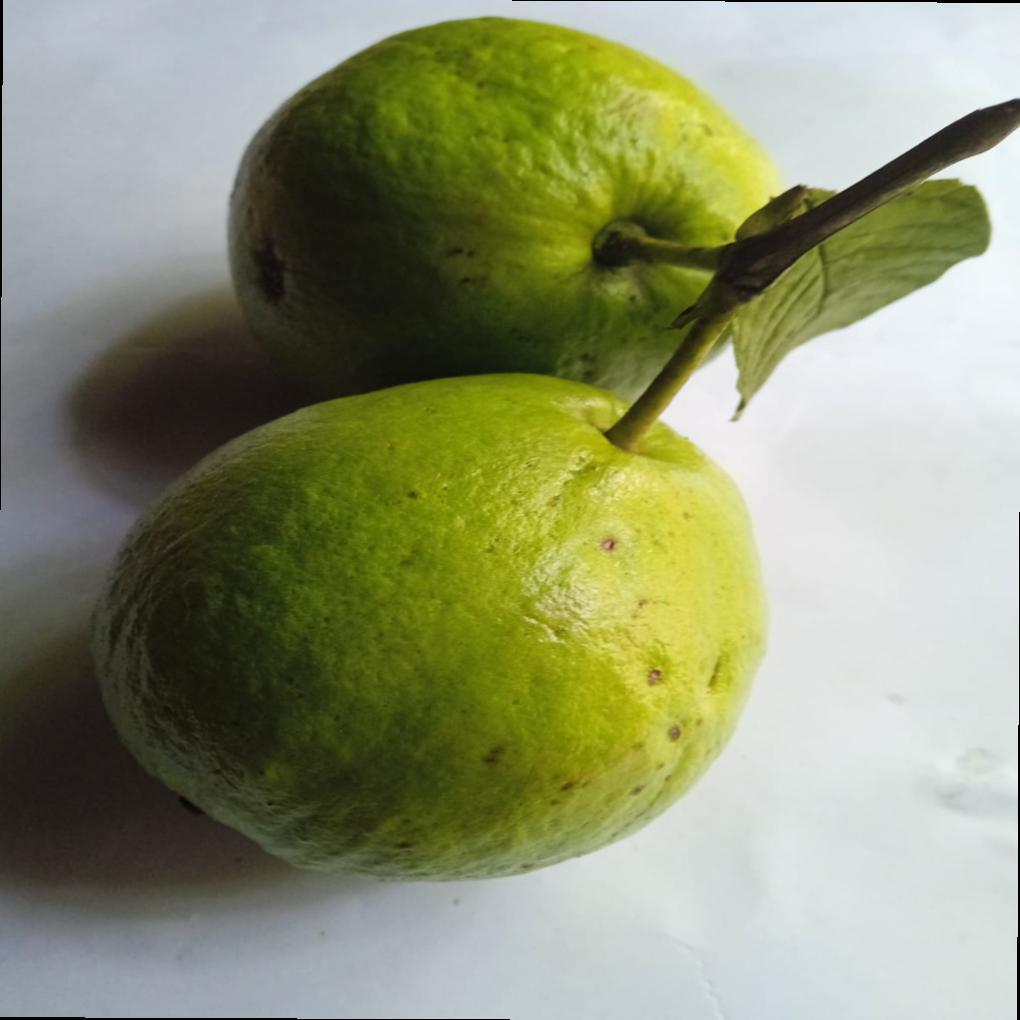FreshGuava: (89, 15, 1020, 886)
